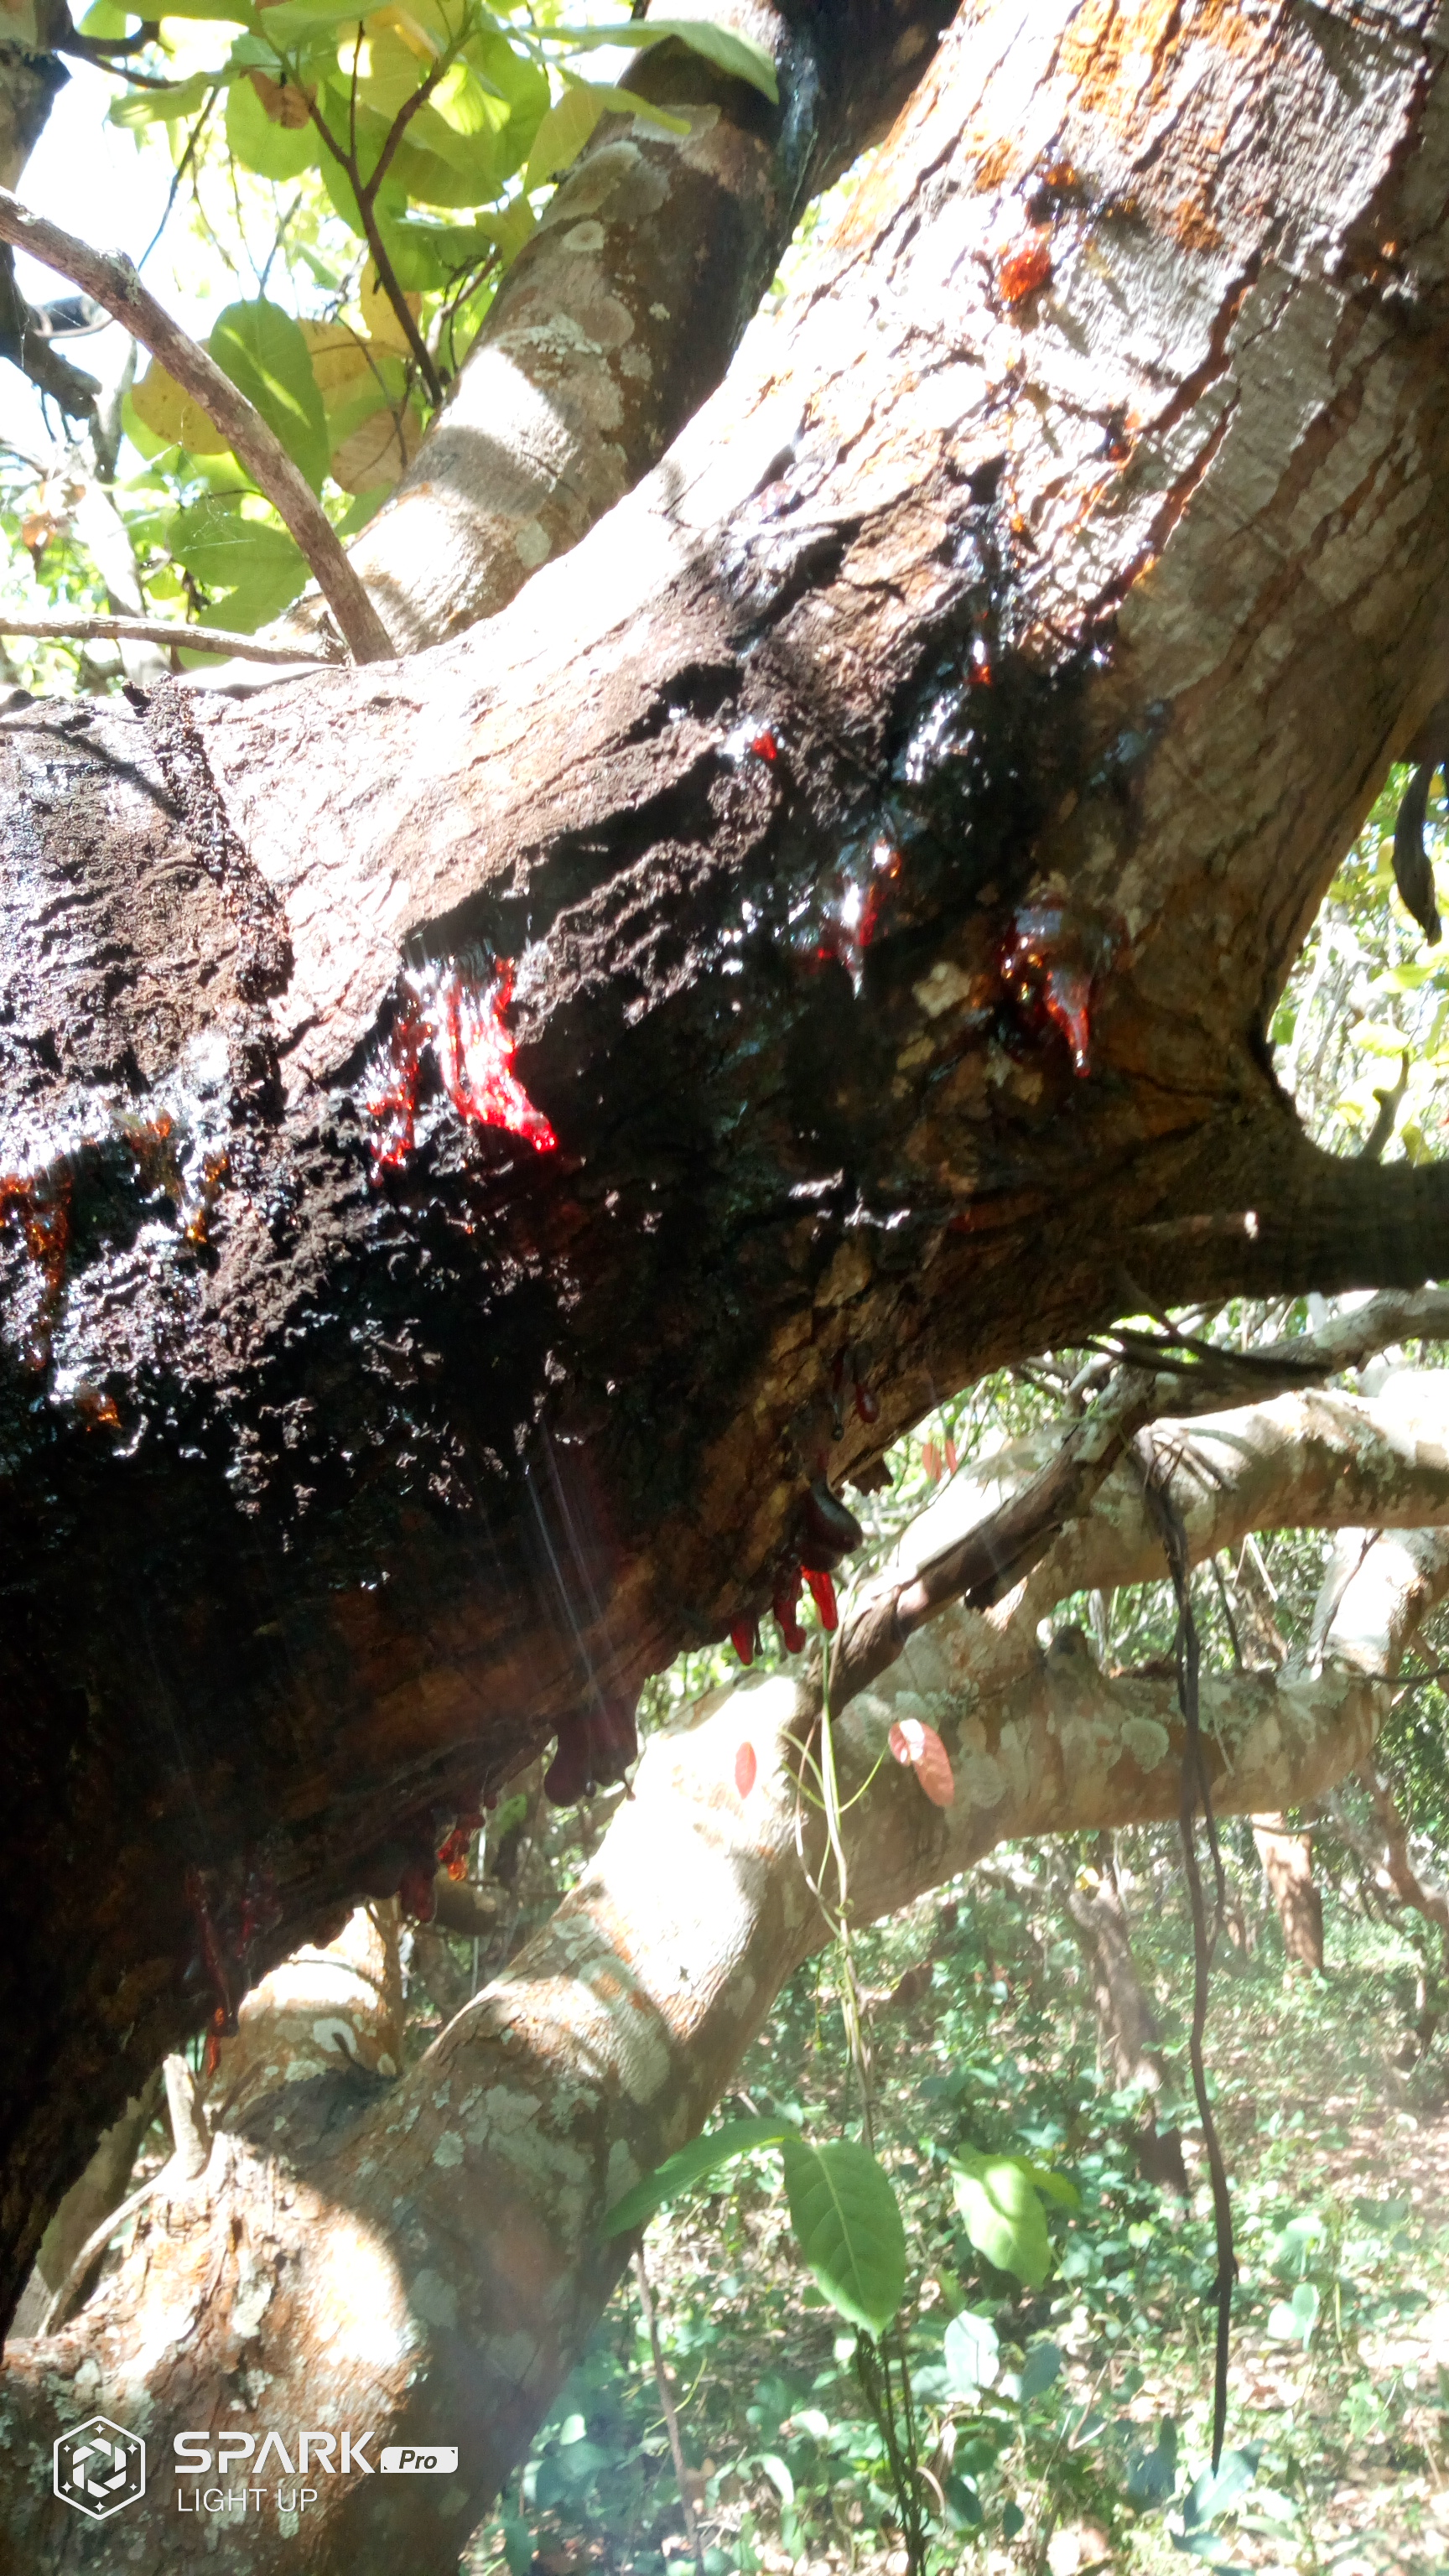Gommose: (2, 510, 1184, 1831)
